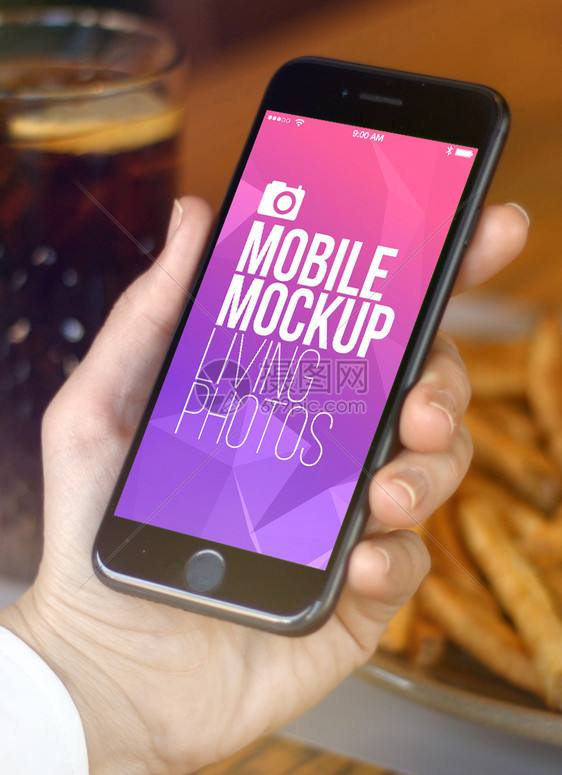phone: (50, 47, 522, 732)
